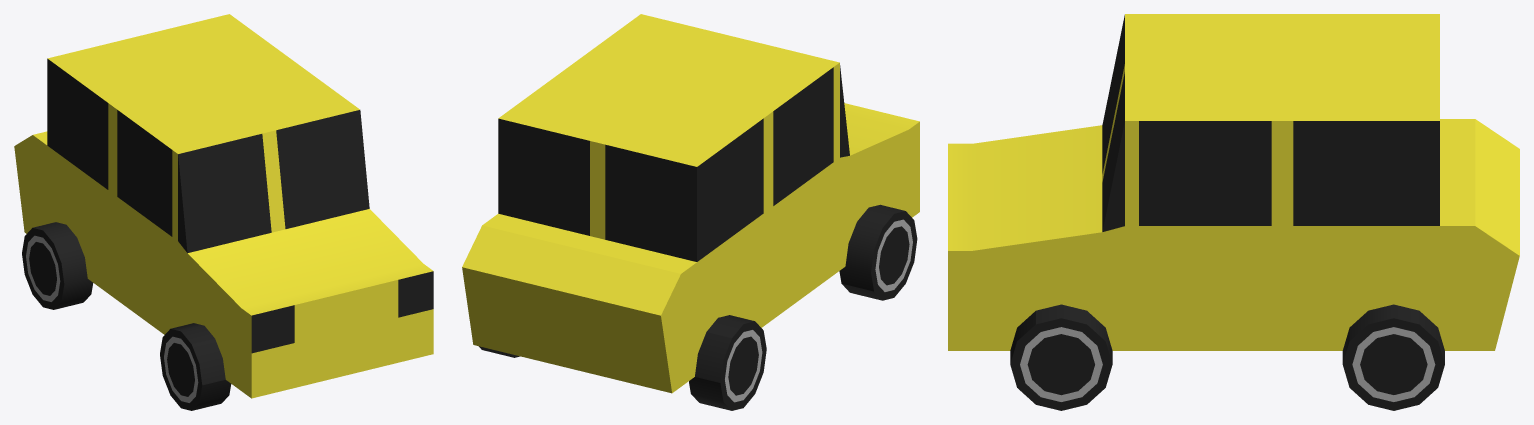
File: car2.fbx
3 views of the same model, side by side, from view 1: azimuth 30°, elevation 25°; view 2: azimuth 150°, elevation 25°; view 3: azimuth 270°, elevation 25° (orthographic). The views are drawn at different scales.
Visible parts, largest first — view 1: Cube.002; view 2: Cube.002; view 3: Cube.002.
Boxes of the visible parts, bbox=[...] form: Cube.002: bbox=[14, 14, 433, 410]; Cube.002: bbox=[462, 14, 919, 410]; Cube.002: bbox=[948, 14, 1519, 410].
Bounding box in the file's own units: 51.22 × 48.96 × 91.89.
